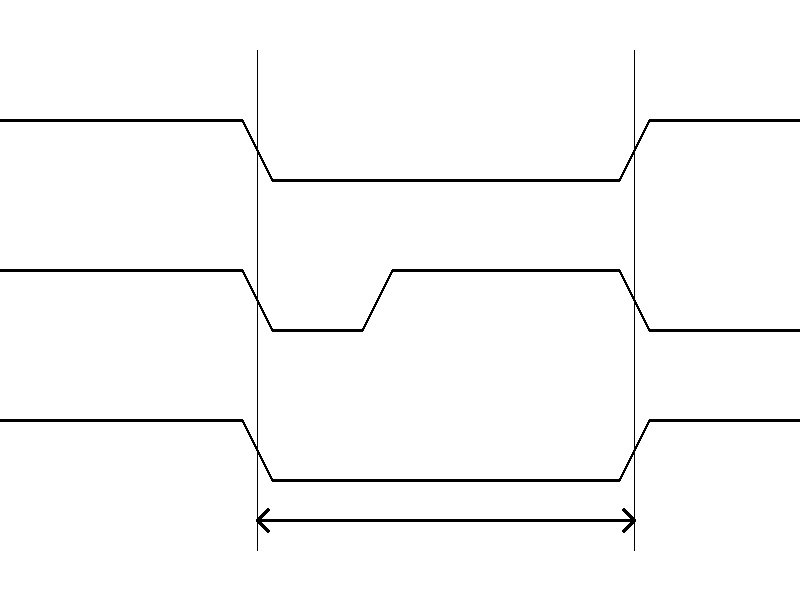double_arrow: (257, 505, 634, 535)
